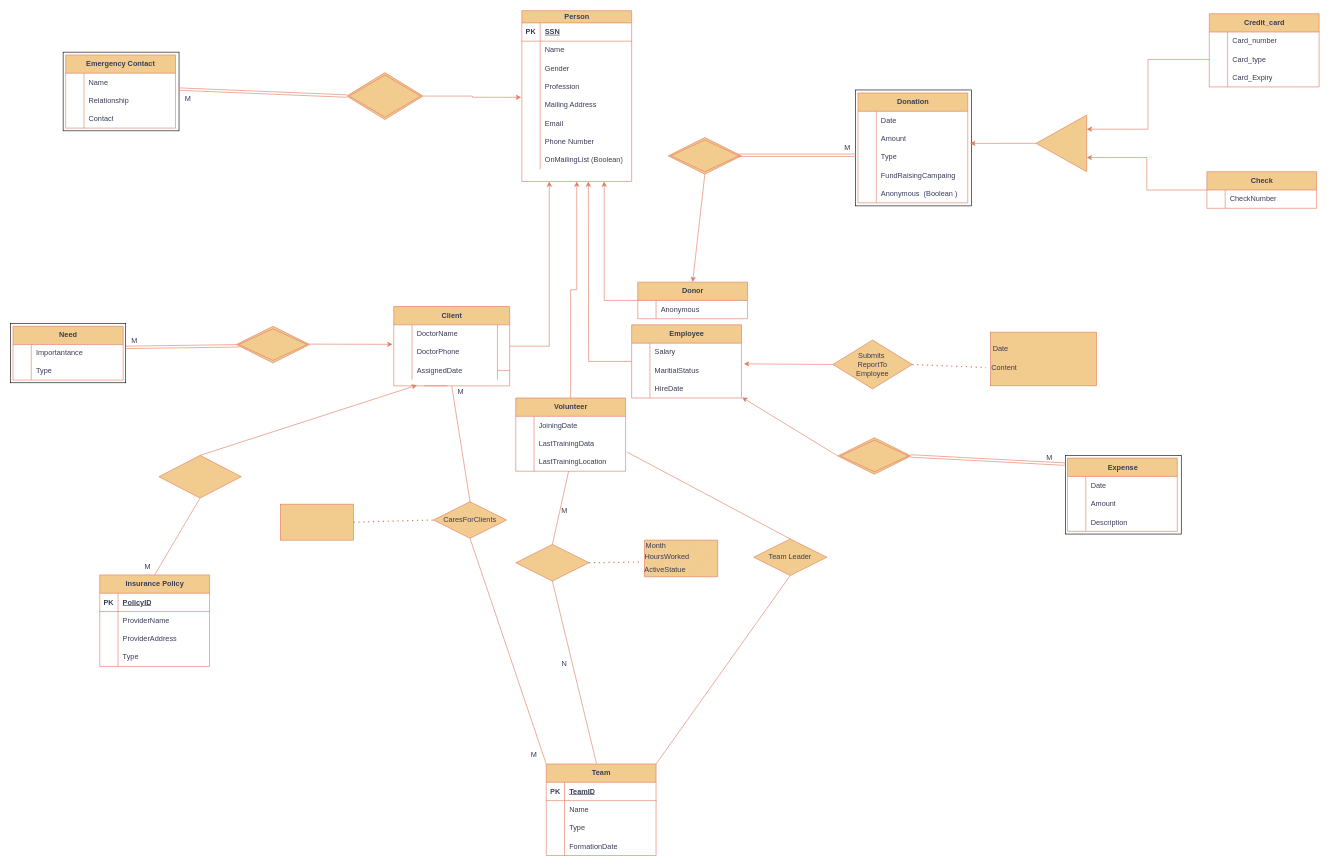
Image size: 1330x866. Some labels were removed from this diagram. Each missing label, with the centre of its shape:
ActiveStatus: point (316, 522)
Has Insurance: point (199, 476)
HasEmergency Contact: point (384, 96)
HasExpenss: point (874, 455)
HasNeed: point (273, 344)
ISA: point (1061, 143)
MakesDonation: point (704, 155)
Works On Team: point (552, 562)
